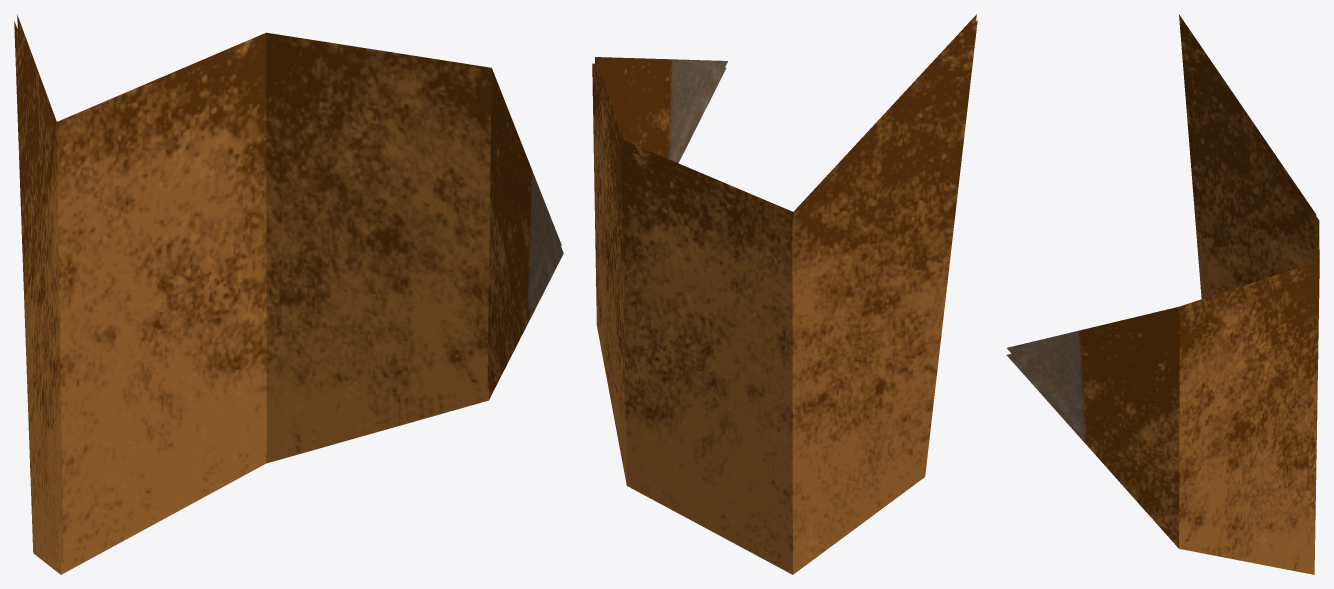
The model's file is Bottle_04.FBX.
3 renders of one model, left to right at view 1: azimuth 30°, elevation 25°; view 2: azimuth 150°, elevation 25°; view 3: azimuth 270°, elevation 25°, orthographic. The views are drawn at different scales.
Parts seen in each view (by area): view 1: Object013; view 2: Object013; view 3: Object013.
Boxes of the visible parts, bbox=[...] form: Object013: bbox=[14, 15, 563, 574]; Object013: bbox=[592, 14, 977, 574]; Object013: bbox=[1006, 14, 1319, 574].
Bounding box in the file's own units: 91.07 × 120 × 70.65.
Materials: 1 (1 with a texture image).
